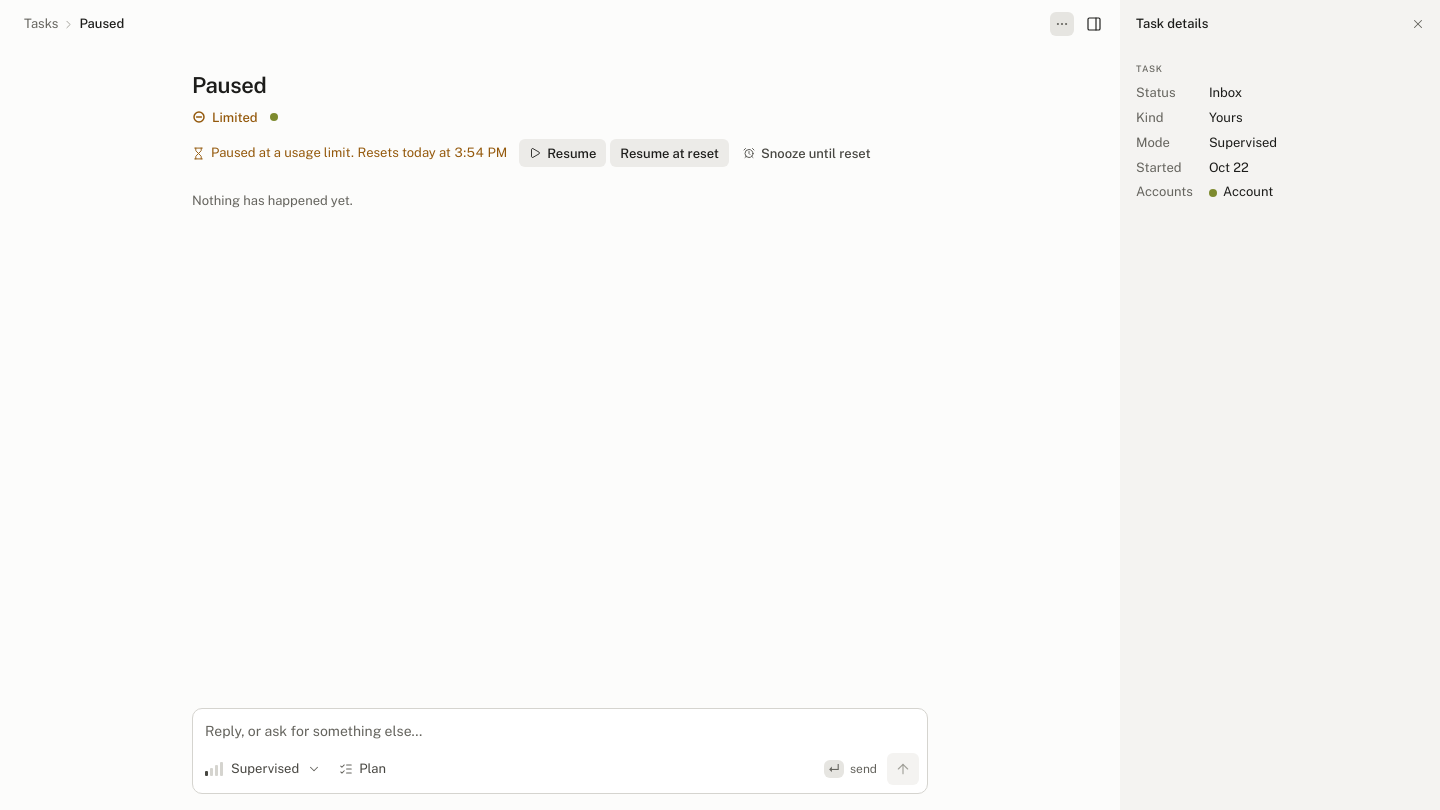
Test: Limited › shows the badge, the reset time and resumes now
Expected: the text "Limited" is shown, top-left (212, 108), bottom-right (258, 127)
Expected: the text "Paused at a usage limit. Resets today at 3:54 PM" is shown, top-left (192, 143), bottom-right (507, 163)
What coordinates should you click on to do the following:
click the button "Resume"
I would click on:
 (563, 153)
Its box is top-left (519, 139), bottom-right (606, 167).
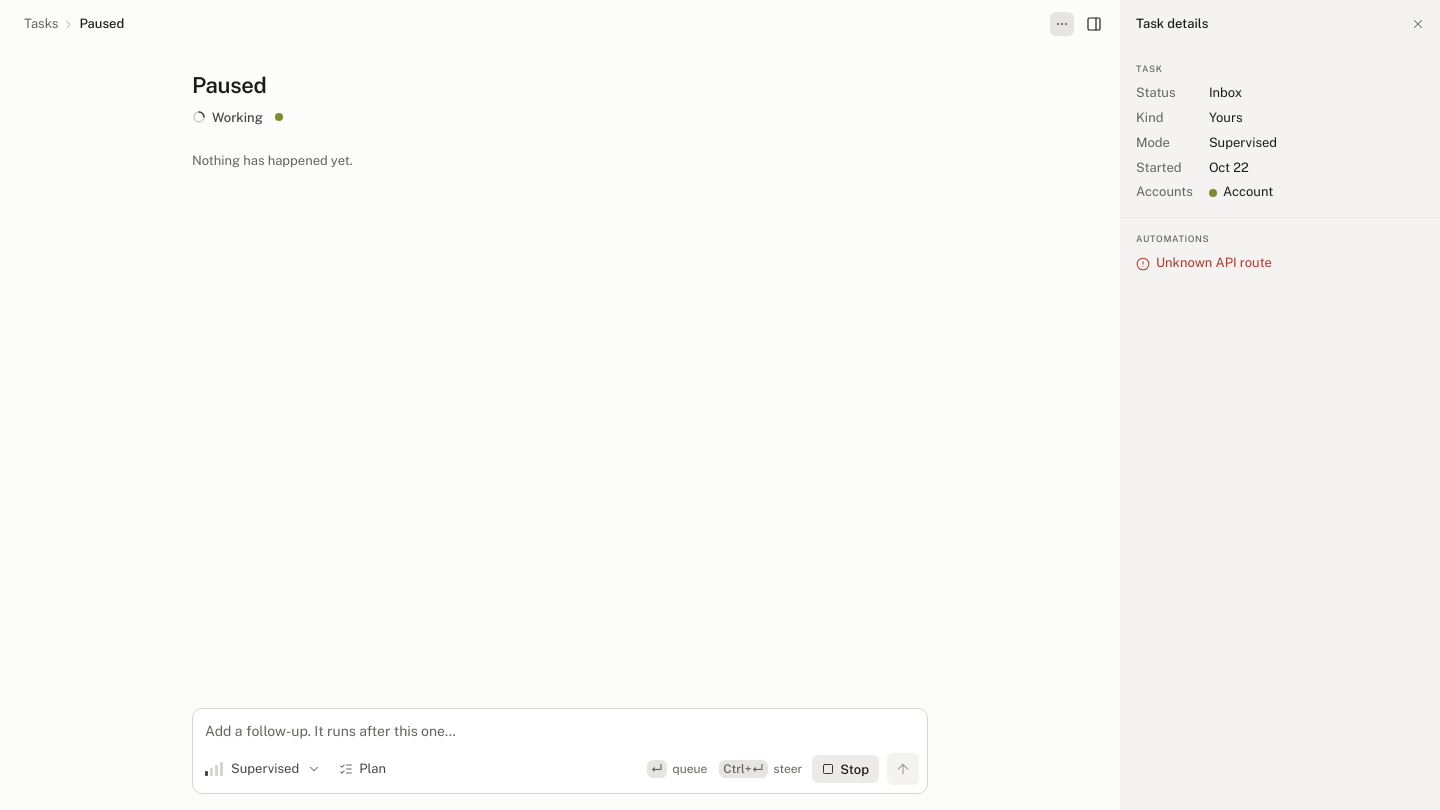
Expected: the button "Resume" is gone
